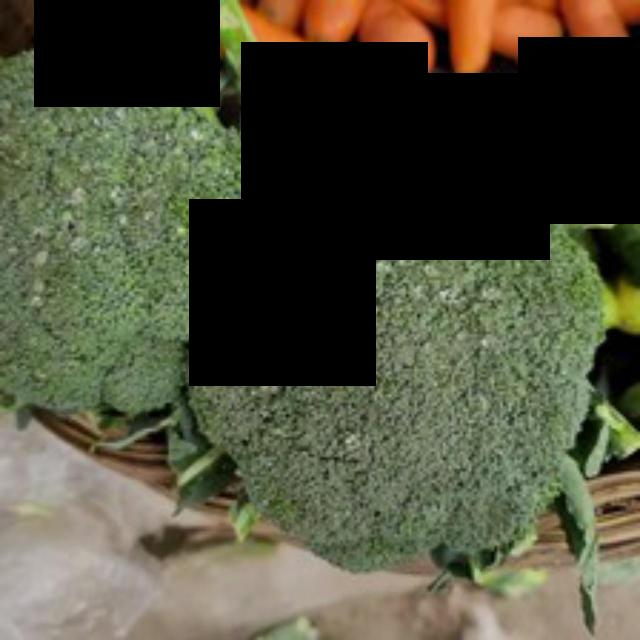broccoli: (176, 146, 611, 600)
